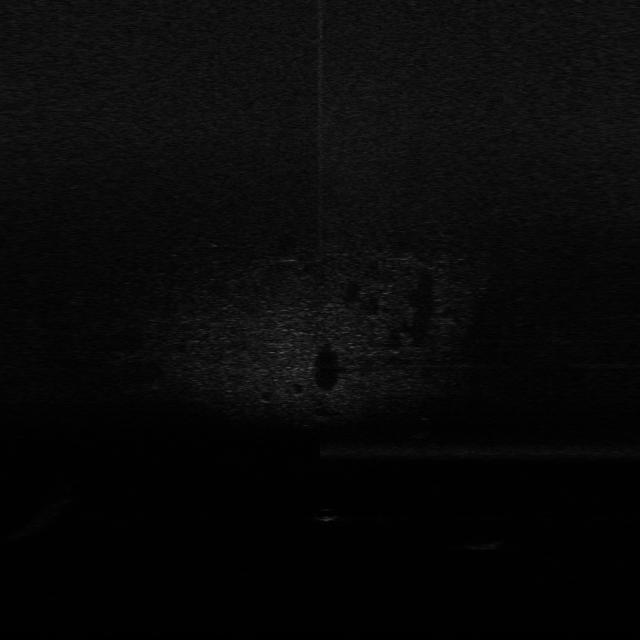ball: (313, 504, 343, 524)
square cage: (460, 537, 510, 553)
tyre: (411, 415, 432, 442)
